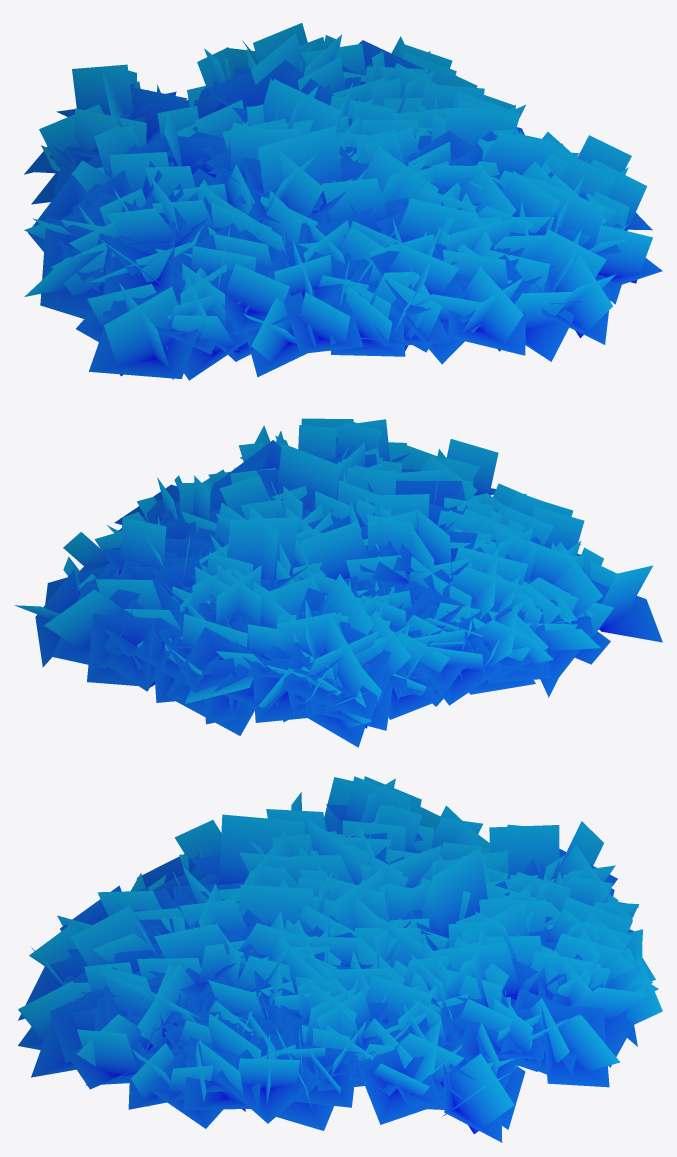
File: SM_Env_Bush_Tropical_03.glb
3 views of the same model, one above another, from view 1: azimuth 30°, elevation 25°; view 2: azimuth 150°, elevation 25°; view 3: azimuth 270°, elevation 25° (orthographic). The views are drawn at different scales.
Visible parts, largest first — view 1: SM_Env_Bush_Tropical_03_LOD0; view 2: SM_Env_Bush_Tropical_03_LOD0; view 3: SM_Env_Bush_Tropical_03_LOD0.
Part boxes in pixels (<box>): SM_Env_Bush_Tropical_03_LOD0: <box>24,23,662,380</box>; SM_Env_Bush_Tropical_03_LOD0: <box>14,418,662,747</box>; SM_Env_Bush_Tropical_03_LOD0: <box>18,776,662,1142</box>.
Size of what is drawn, in the model's own units: 4.23 by 1.4 by 4.19.
